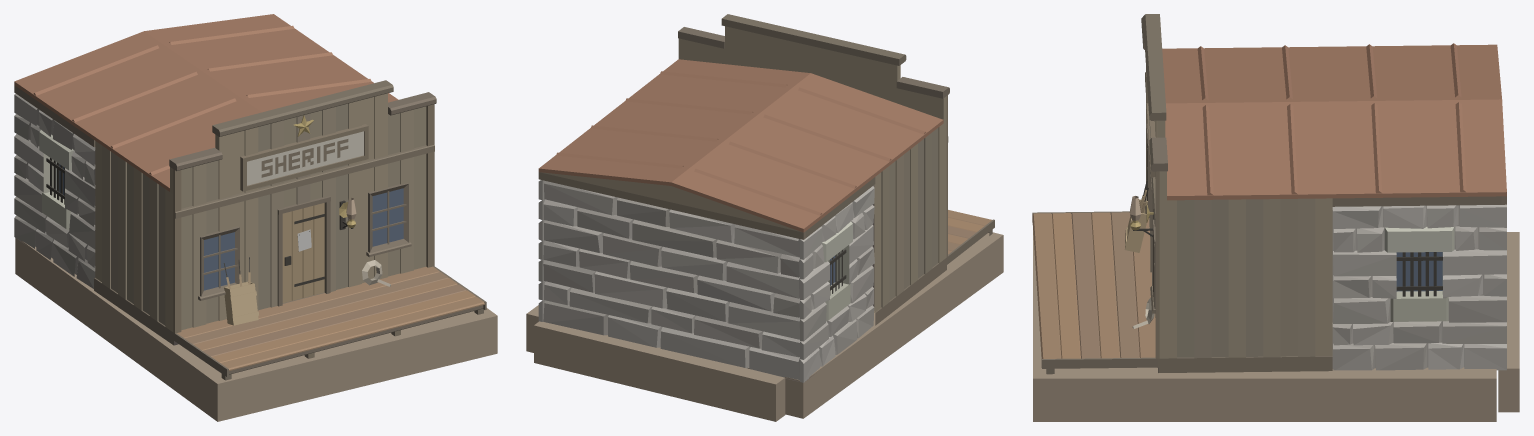
Rendered from house_4.glb.
3 views of the same model, side by side, from view 1: azimuth 30°, elevation 25°; view 2: azimuth 150°, elevation 25°; view 3: azimuth 270°, elevation 25° (orthographic). The views are drawn at different scales.
Parts seen in each view (by area): view 1: house_4; view 2: house_4; view 3: house_4.
Part boxes in pixels (x1,y1,x2,y2): house_4: [14, 14, 497, 421]; house_4: [526, 14, 1003, 421]; house_4: [1032, 14, 1519, 421].
Size of the model in its own units: 7.98 by 6.62 by 10.48.
